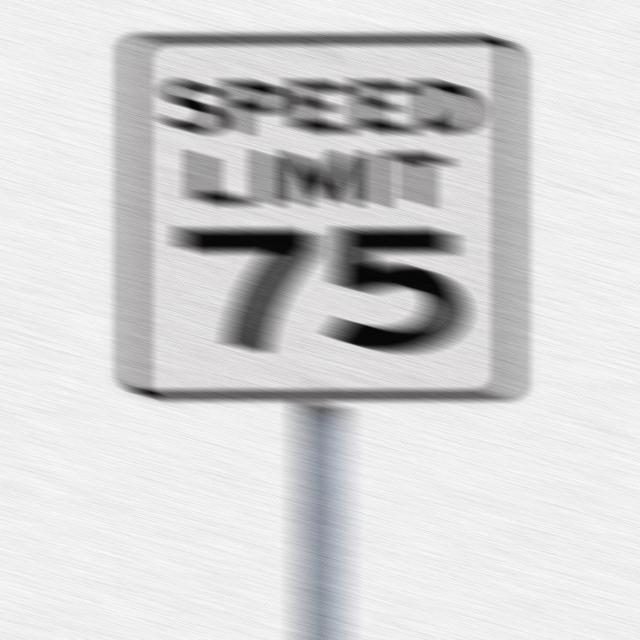speedLimit75: (114, 36, 522, 394)
